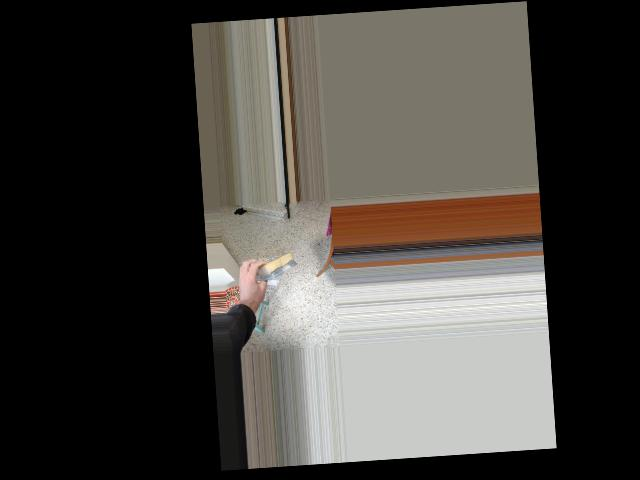cheese: (245, 248, 301, 287)
